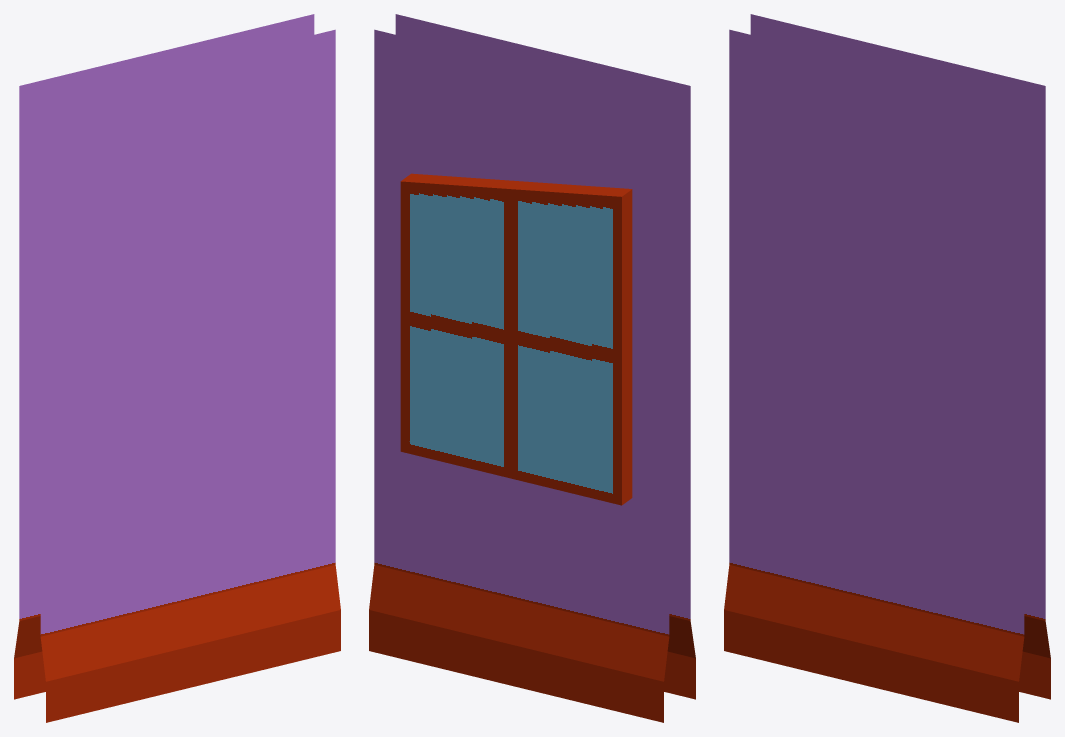
Rendered from CartoonWall2.gltf.
3 renders of one model, left to right at view 1: azimuth 30°, elevation 25°; view 2: azimuth 150°, elevation 25°; view 3: azimuth 330°, elevation 25°, orthographic.
Parts seen in each view (by area): view 1: cuboid; view 2: cuboid; view 3: cuboid.
Boxes of the visible parts, box(x1,y1,x2,y2) form: cuboid: box(14, 14, 340, 722); cuboid: box(369, 14, 695, 722); cuboid: box(724, 14, 1050, 722).
Bounding box in the file's own units: 2 × 4 × 0.4375.
Materials: 1 (1 with a texture image).
